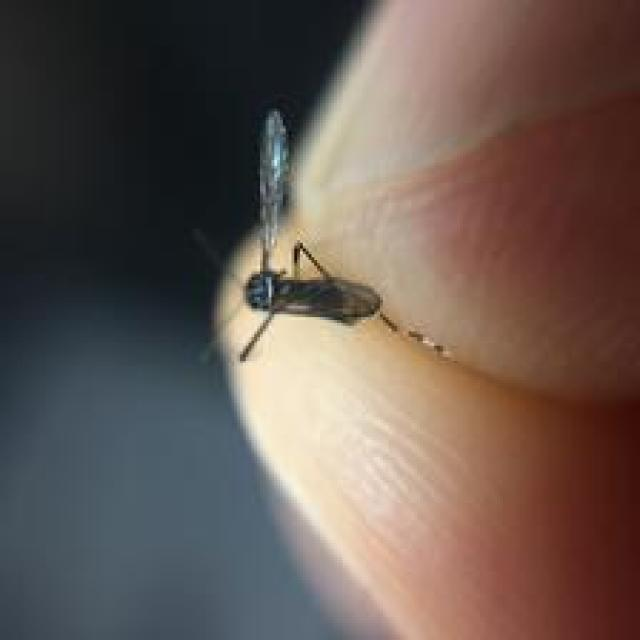Aedes albopictus: (232, 107, 457, 367)
